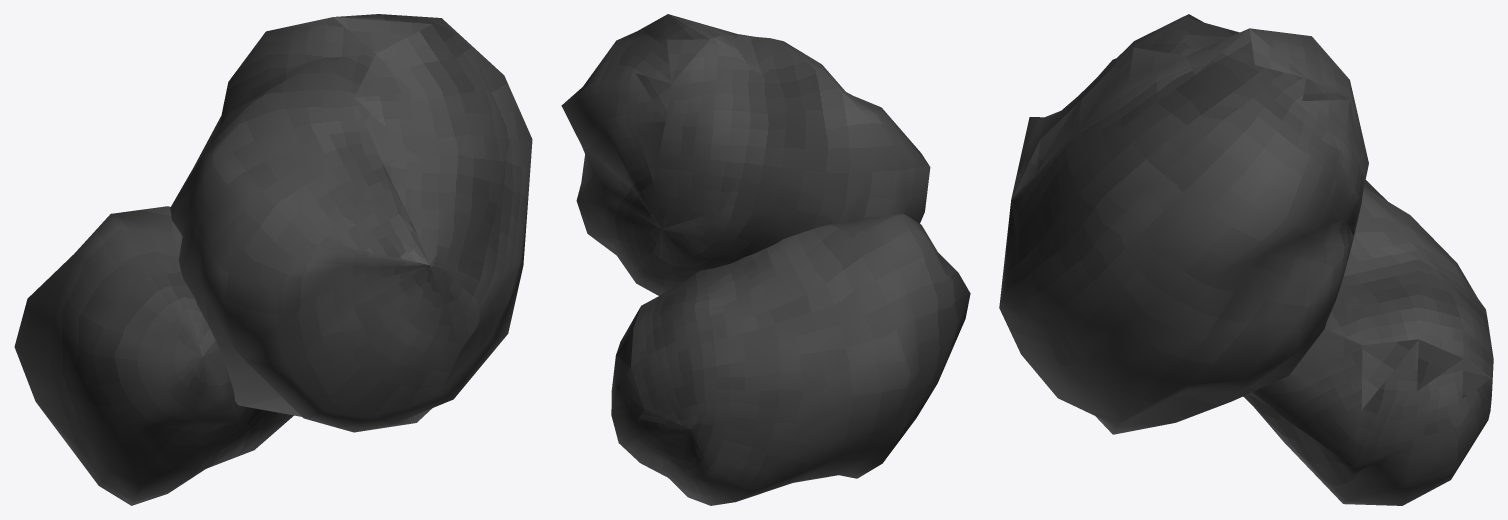
Rendered from rock.fbx.
The picture shows the model from 3 angles, left to right: view 1: azimuth 30°, elevation 25°; view 2: azimuth 150°, elevation 25°; view 3: azimuth 270°, elevation 25°; orthographic projection. The views are drawn at different scales.
Visible parts, largest first — view 1: rock_None; view 2: rock_None; view 3: rock_None.
Boxes of the visible parts, <box> form: rock_None: <box>14,14,532,505</box>; rock_None: <box>561,14,970,505</box>; rock_None: <box>999,14,1493,505</box>.
Size of the model in its own units: 99.7 by 98.69 by 89.42.
Materials: 1 (1 with a texture image).
